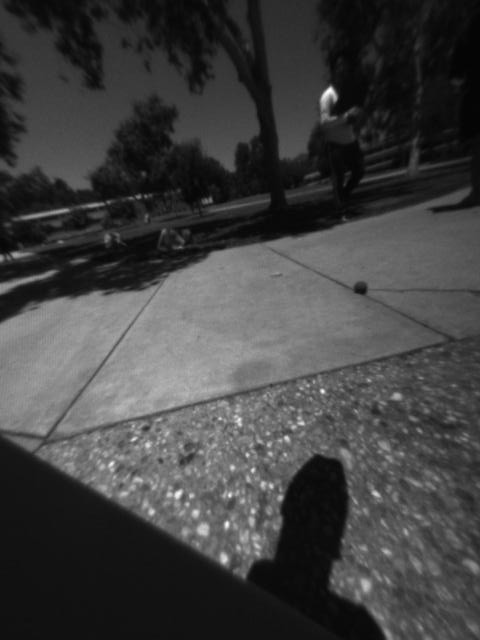dogtoy: (346, 274, 374, 300)
